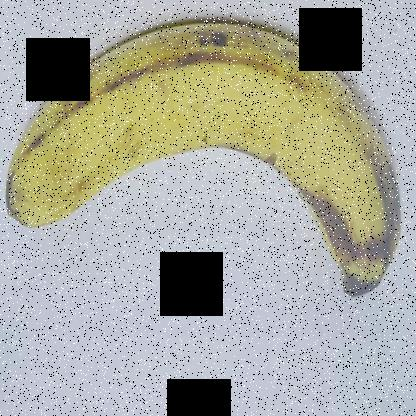ripe: (1, 11, 415, 322)
